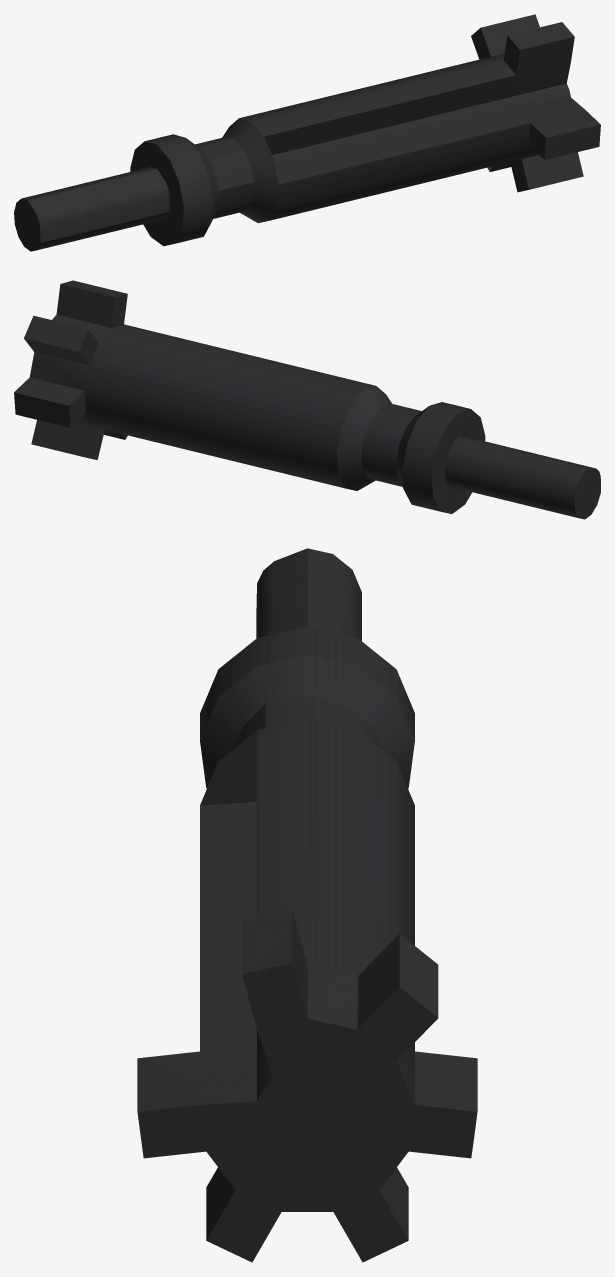
The model's file is Bolt.dae.
3 renders of one model, top to bottom at view 1: azimuth 30°, elevation 25°; view 2: azimuth 150°, elevation 25°; view 3: azimuth 270°, elevation 25°, orthographic. The views are drawn at different scales.
Parts seen in each view (by area): view 1: Bolt; view 2: Bolt; view 3: Bolt.
Boxes of the visible parts, x1,y1,x2,y2 form: Bolt: (14, 14, 600, 251); Bolt: (14, 280, 600, 519); Bolt: (137, 548, 477, 1262).
Size of the model in its own units: 0.0697 by 0.0193 by 0.0188.
1 material, 1 textured.
